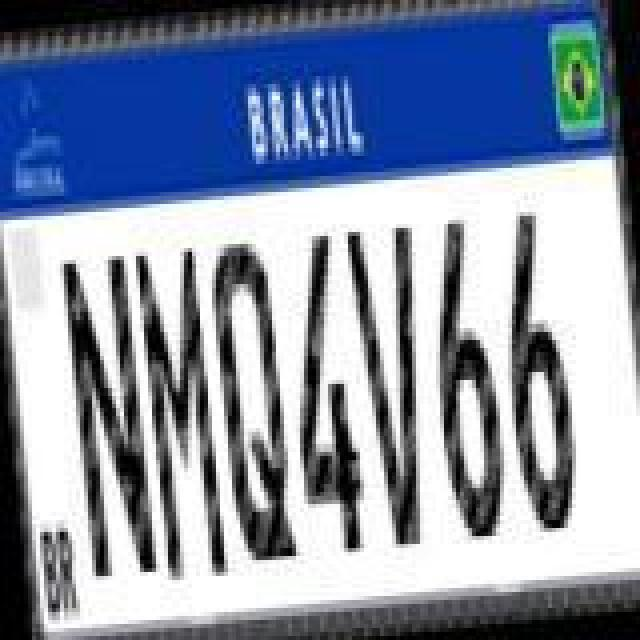4: (272, 226, 368, 558)
6: (416, 208, 512, 544), (488, 202, 584, 534)
M: (130, 240, 230, 584)
N: (60, 248, 164, 584)
Q: (208, 234, 304, 566)
V: (340, 216, 444, 552)
